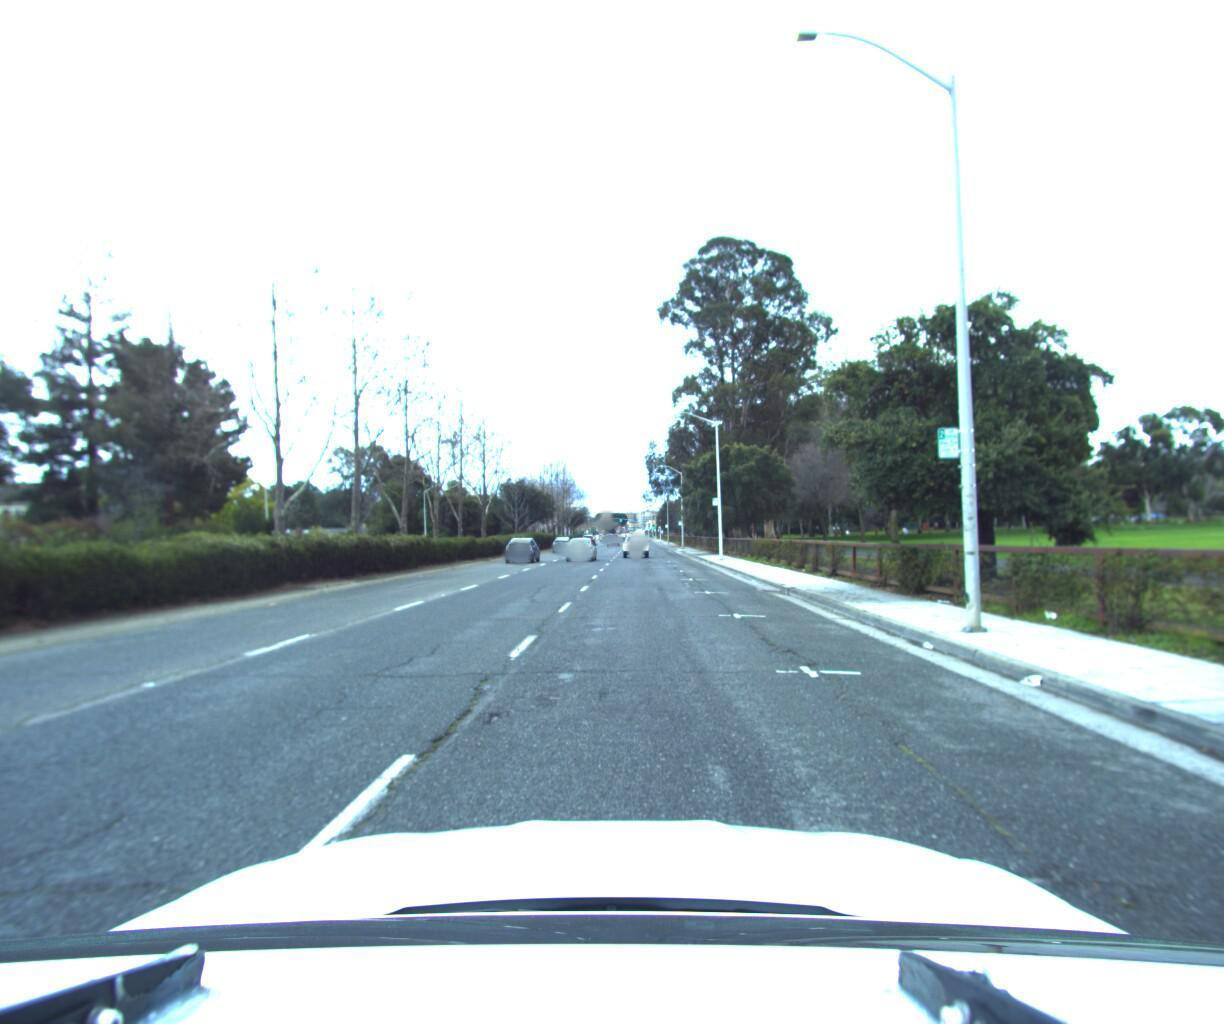car: (505, 534, 543, 560), (563, 533, 596, 558), (621, 530, 648, 556)
